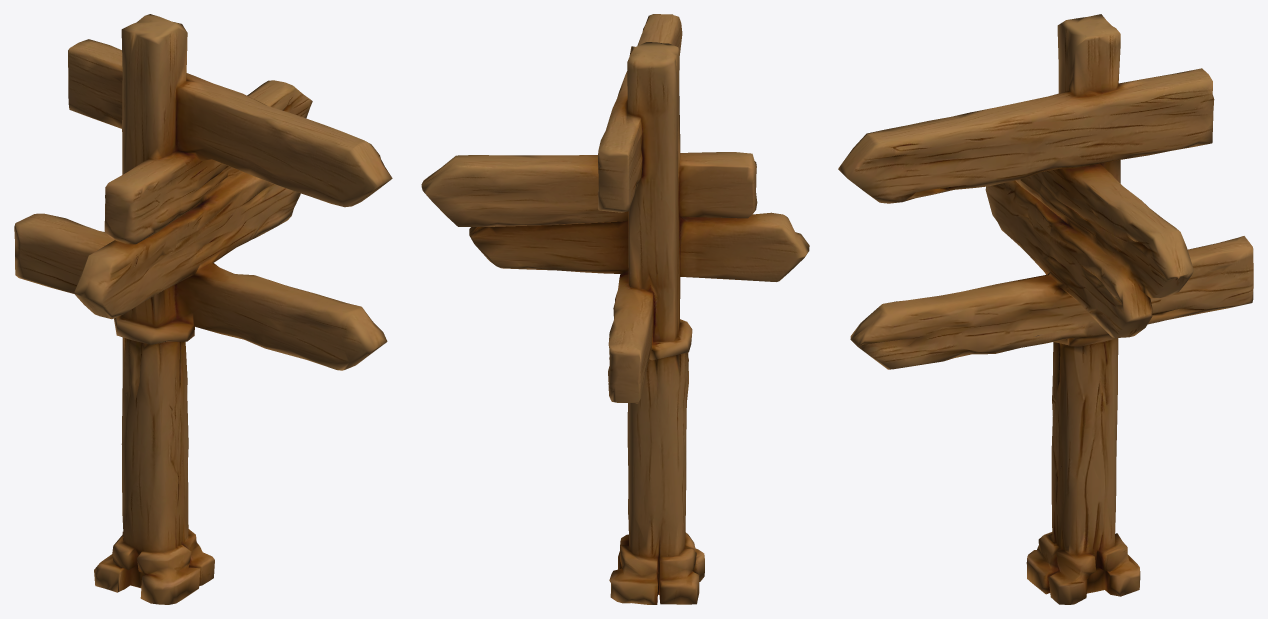
Rendered from signpost.glb.
3 renders of one model, left to right at view 1: azimuth 30°, elevation 25°; view 2: azimuth 150°, elevation 25°; view 3: azimuth 270°, elevation 25°, orthographic. The views are drawn at different scales.
Visible parts, largest first — view 1: tripo_node_6bfd1a77-8f58-4241-ac5d-651d7b548081; view 2: tripo_node_6bfd1a77-8f58-4241-ac5d-651d7b548081; view 3: tripo_node_6bfd1a77-8f58-4241-ac5d-651d7b548081.
Part boxes in pixels (x1,y1,x2,y2): tripo_node_6bfd1a77-8f58-4241-ac5d-651d7b548081: [14, 14, 392, 604]; tripo_node_6bfd1a77-8f58-4241-ac5d-651d7b548081: [421, 14, 809, 604]; tripo_node_6bfd1a77-8f58-4241-ac5d-651d7b548081: [838, 14, 1253, 604].
Bounding box in the file's own units: 0.599 × 1 × 0.675.
1 material, 1 textured.
